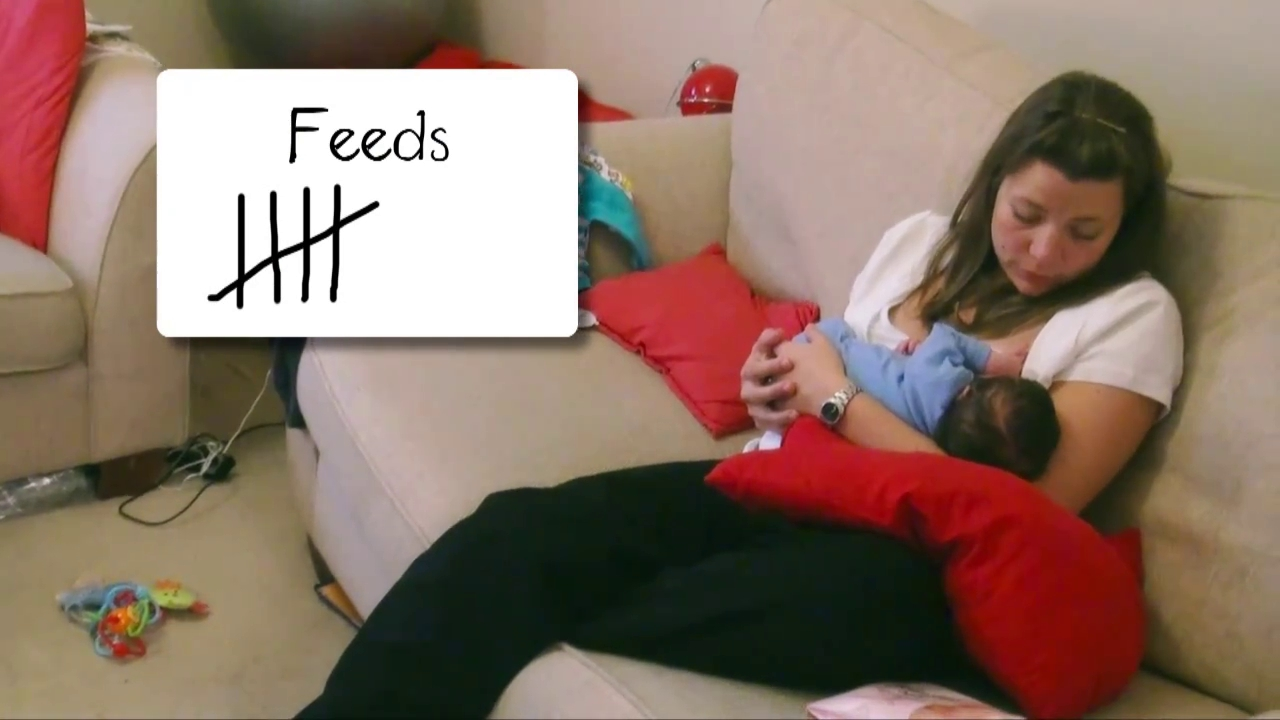person: (294, 70, 1186, 720), (786, 320, 1059, 482)
